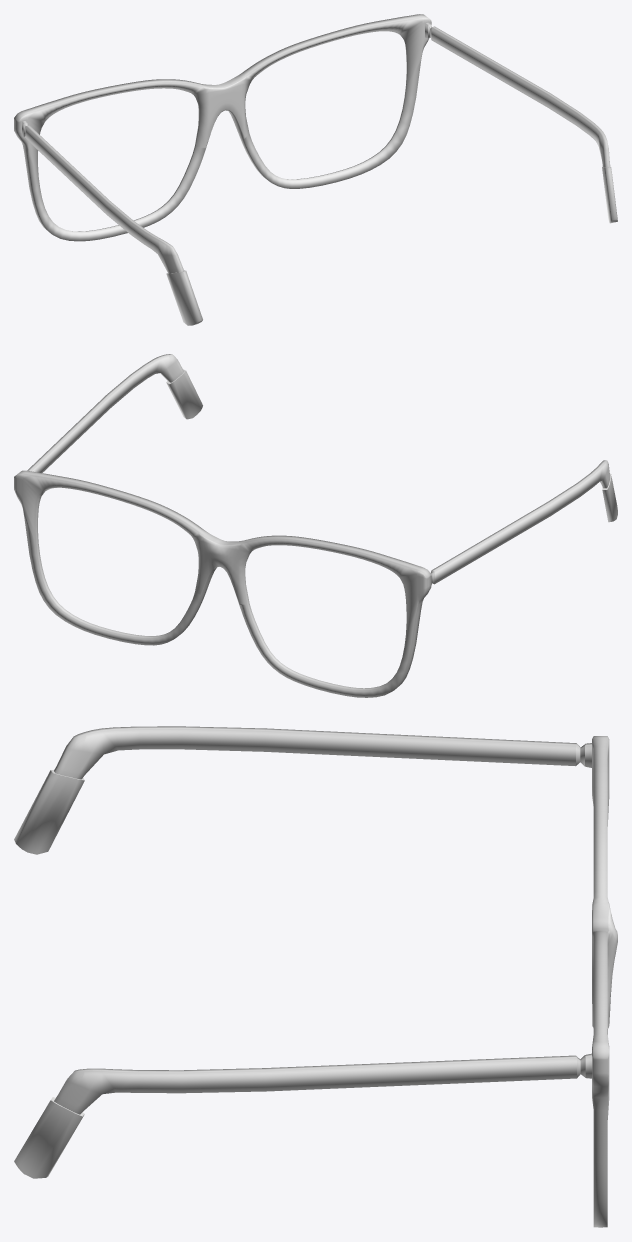
3 views of the same model, one above another, from view 1: azimuth 30°, elevation 25°; view 2: azimuth 150°, elevation 25°; view 3: azimuth 270°, elevation 25° (orthographic). The views are drawn at different scales.
Visible parts, largest first — view 1: geometry_0; view 2: geometry_0; view 3: geometry_0.
Part boxes in pixels (x1,y1,x2,y2): geometry_0: [14, 14, 617, 325]; geometry_0: [14, 354, 617, 697]; geometry_0: [14, 726, 617, 1227].
Bounding box in the file's own units: 1.22 × 0.3825 × 0.8962.
1 material, 1 textured.
